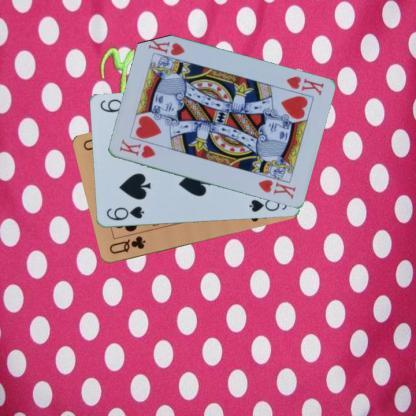6s: (103, 203, 145, 222)
Kh: (283, 72, 325, 98), (116, 136, 157, 160)
Qc: (106, 233, 147, 256)
